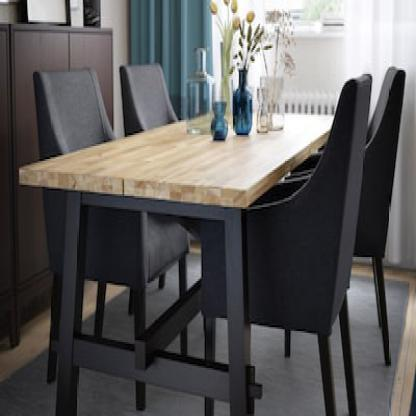chair: (195, 72, 367, 416), (28, 59, 131, 409), (355, 65, 408, 364), (104, 48, 188, 137)
